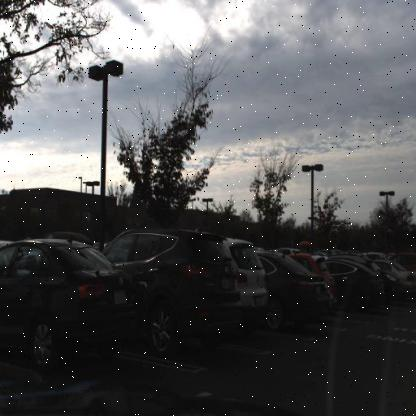car: (0, 236, 140, 378), (112, 222, 244, 362), (262, 250, 332, 332), (228, 233, 270, 326), (322, 258, 384, 312), (307, 249, 339, 318), (382, 263, 402, 316), (328, 256, 340, 322), (397, 261, 415, 304)
